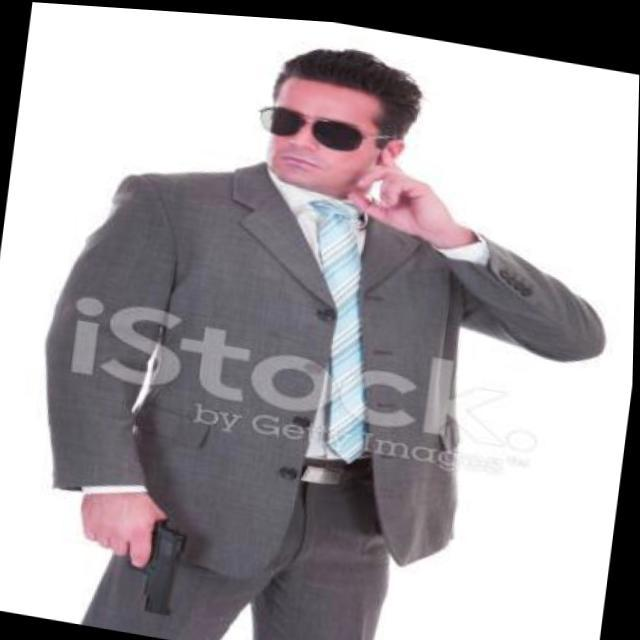weapon: (75, 488, 198, 628)
